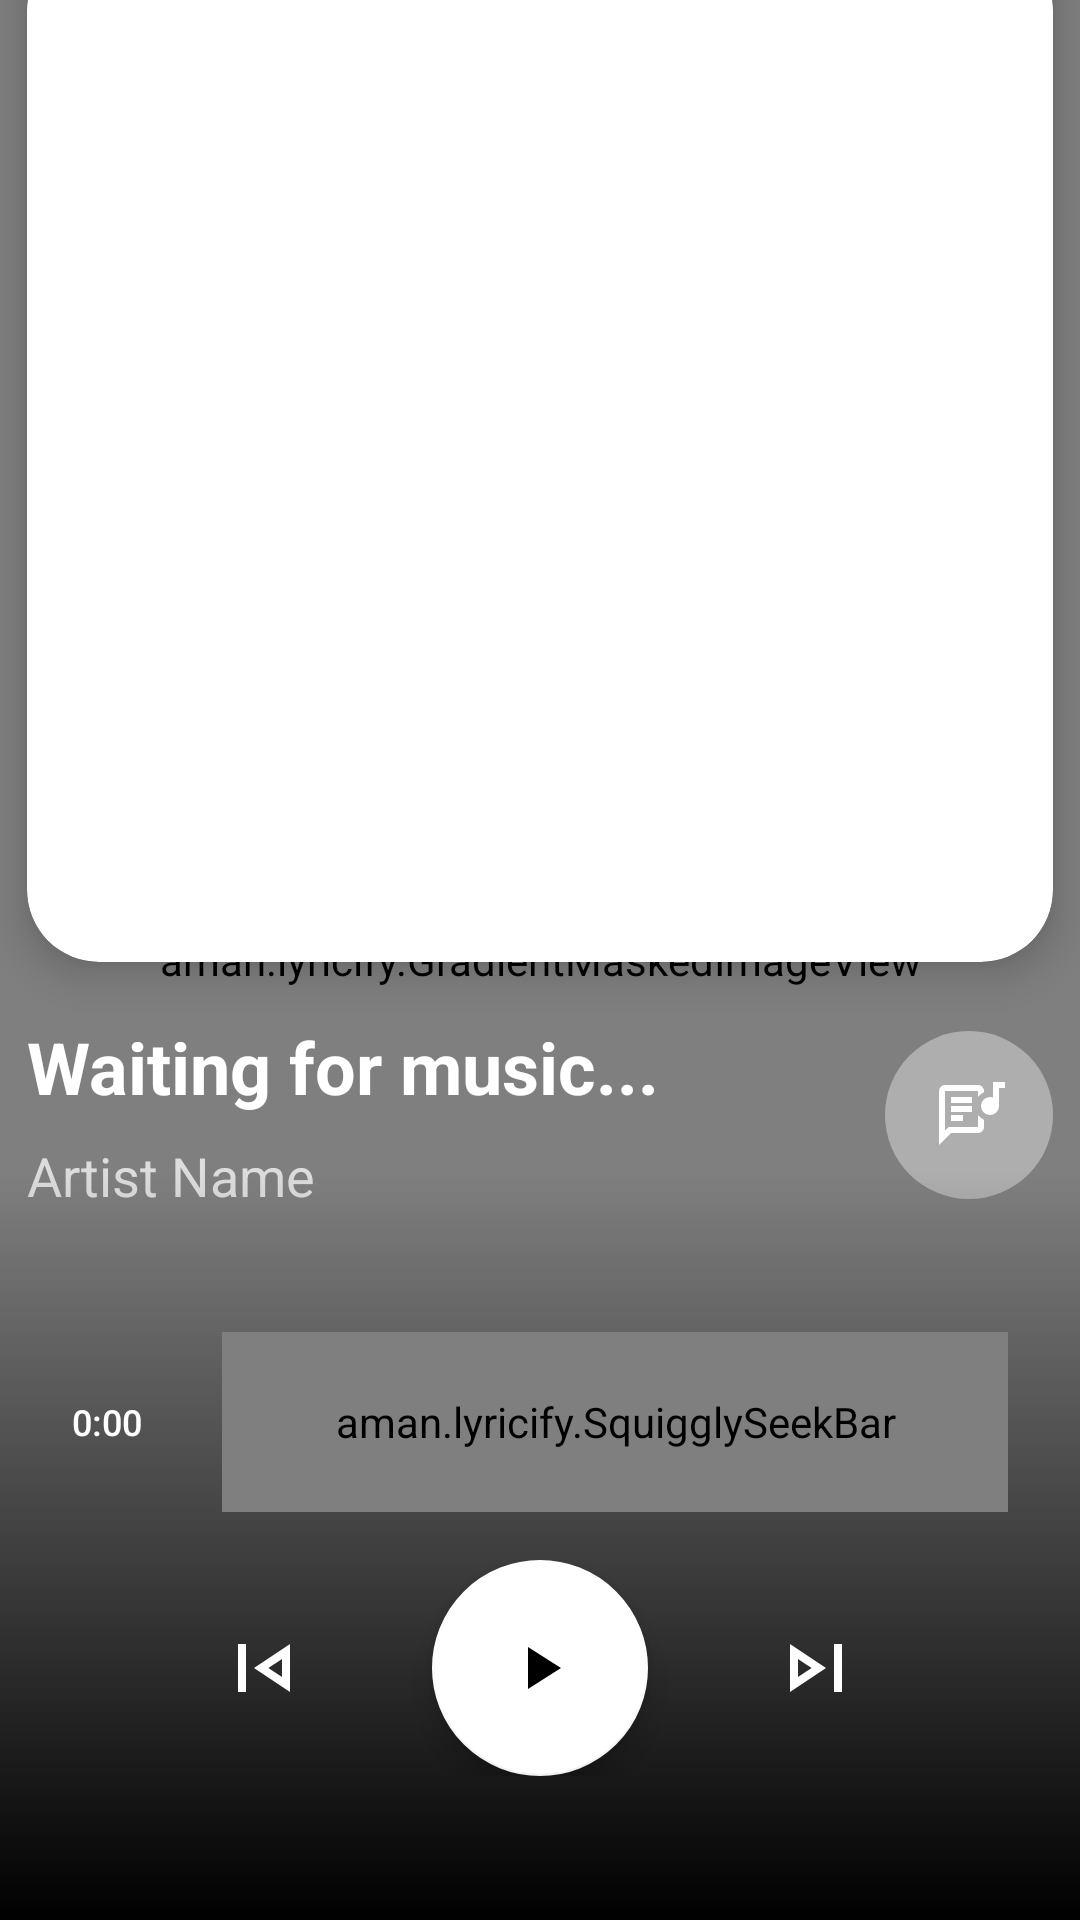

Point at icon controls on the screen. Image size 1080px x 1920px, points as (x,y).
avd play to pause: (540,1668)
lyrics: (969,1115)
